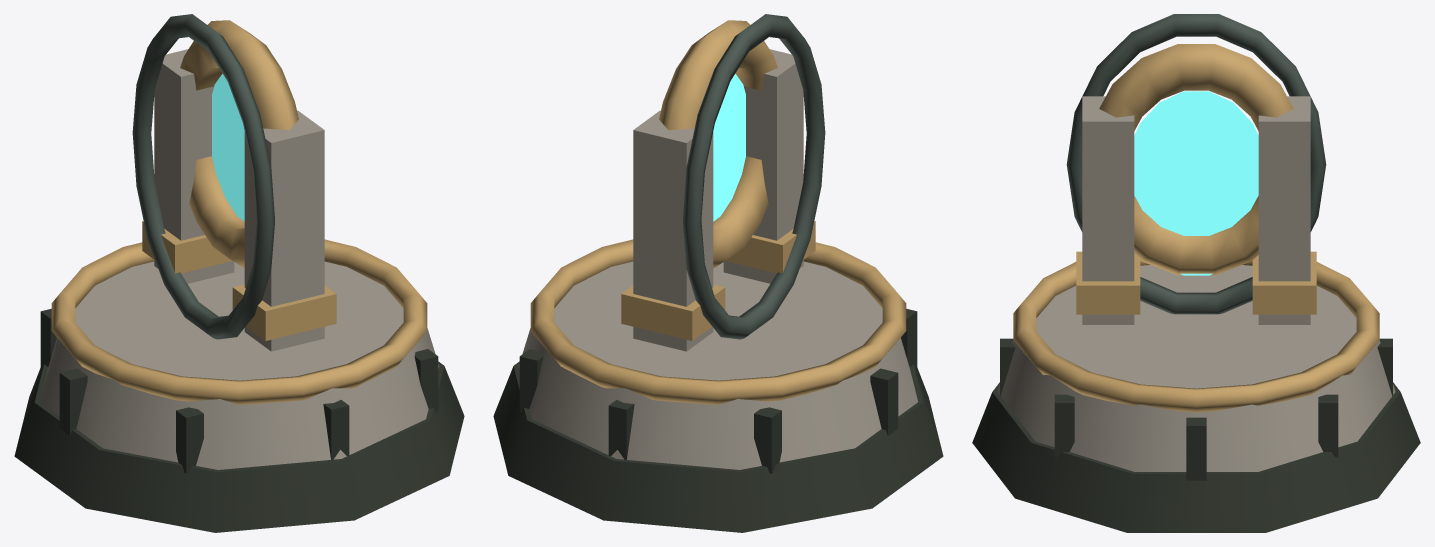
File: tower_portal_portalTime.glb
3 views of the same model, side by side, from view 1: azimuth 30°, elevation 25°; view 2: azimuth 150°, elevation 25°; view 3: azimuth 270°, elevation 25° (orthographic). The views are drawn at different scales.
Parts seen in each view (by area): view 1: stone_1, foot_0, rim_2, time_gate_17, arch_pillar_11, arch_pillar_13, arch_15, portal_surface_16, band_12, band_14, mortar_6, mortar_7 (+3 smaller); view 2: stone_1, foot_0, rim_2, time_gate_17, arch_pillar_13, arch_pillar_11, arch_15, portal_surface_16, band_14, band_12, mortar_8, mortar_7 (+3 smaller); view 3: stone_1, foot_0, portal_surface_16, arch_15, rim_2, time_gate_17, arch_pillar_11, arch_pillar_13, band_12, band_14, mortar_3, mortar_4 (+3 smaller).
Part boxes in pixels (bbox=[...]): stone_1: bbox=[40, 261, 439, 469]; foot_0: bbox=[14, 361, 464, 532]; rim_2: bbox=[51, 239, 427, 404]; time_gate_17: bbox=[132, 14, 274, 339]; arch_pillar_11: bbox=[244, 110, 324, 351]; arch_pillar_13: bbox=[154, 49, 234, 283]; arch_15: bbox=[180, 20, 298, 268]; portal_surface_16: bbox=[212, 74, 244, 221]; band_12: bbox=[232, 284, 336, 340]; band_14: bbox=[142, 221, 232, 273]; mortar_6: bbox=[176, 407, 203, 473]; mortar_7: bbox=[59, 368, 87, 435]; stone_1: bbox=[518, 261, 917, 469]; foot_0: bbox=[493, 361, 943, 532]; rim_2: bbox=[530, 239, 906, 404]; time_gate_17: bbox=[683, 14, 825, 339]; arch_pillar_13: bbox=[633, 110, 713, 351]; arch_pillar_11: bbox=[723, 49, 803, 283]; arch_15: bbox=[659, 20, 777, 268]; portal_surface_16: bbox=[713, 74, 745, 221]; band_14: bbox=[621, 284, 725, 340]; band_12: bbox=[725, 221, 815, 273]; mortar_8: bbox=[754, 407, 781, 473]; mortar_7: bbox=[870, 368, 898, 435]; stone_1: bbox=[997, 265, 1395, 471]; foot_0: bbox=[972, 382, 1420, 532]; portal_surface_16: bbox=[1134, 91, 1258, 275]; arch_15: bbox=[1099, 44, 1293, 275]; rim_2: bbox=[1013, 260, 1379, 412]; time_gate_17: bbox=[1066, 14, 1326, 314]; arch_pillar_11: bbox=[1082, 96, 1134, 324]; arch_pillar_13: bbox=[1258, 96, 1310, 324]; band_12: bbox=[1076, 251, 1140, 314]; band_14: bbox=[1252, 251, 1316, 314]; mortar_3: bbox=[1186, 417, 1206, 480]; mortar_4: bbox=[1054, 394, 1074, 457].
Size of the model in its own units: 0.5326 by 0.5674 by 0.56.
